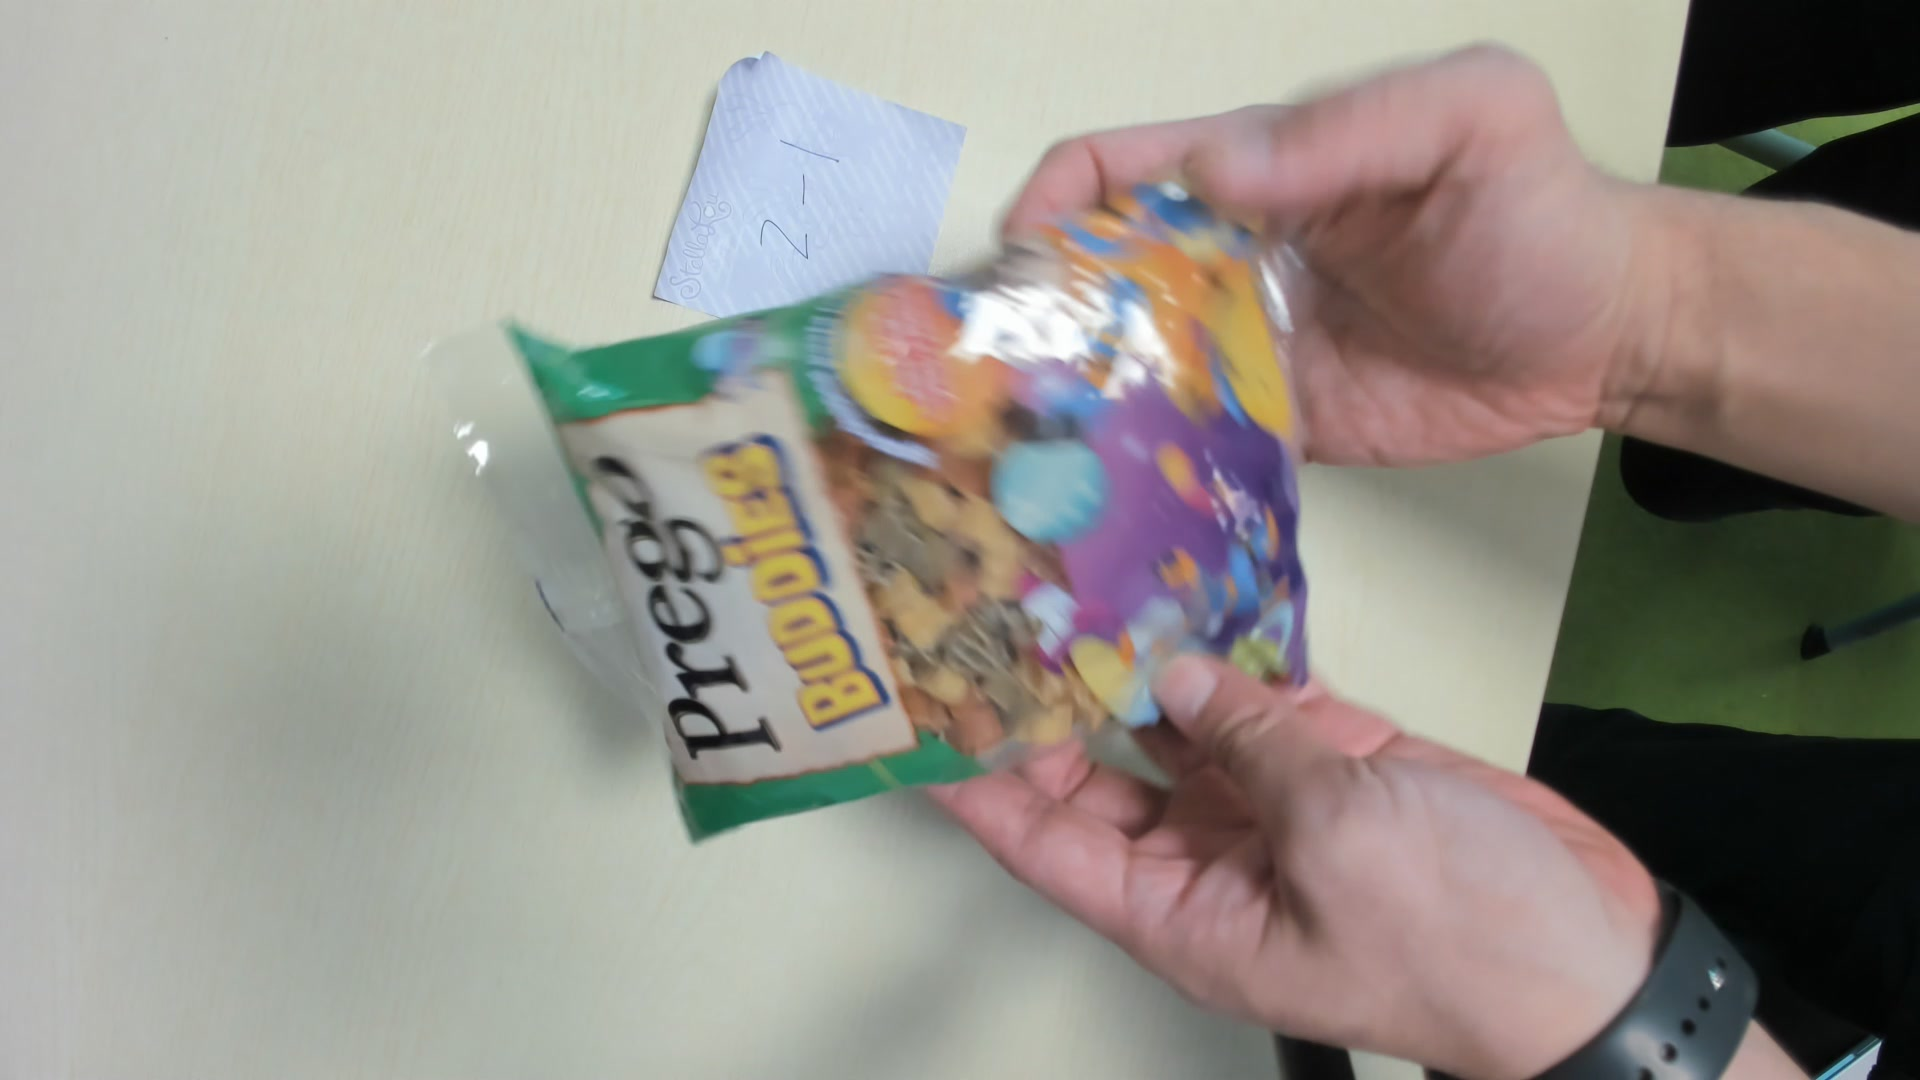Pasta_200-299g_Halal_NonHealthy: (465, 189, 1304, 843)
